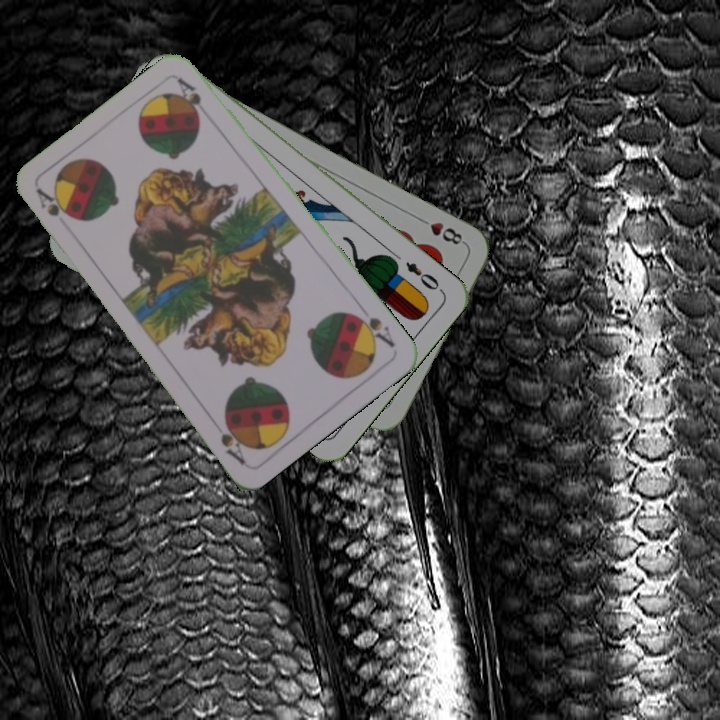EO: (401, 257, 442, 293)
H8: (414, 213, 468, 248)
SA: (348, 302, 397, 350), (32, 184, 69, 219)
